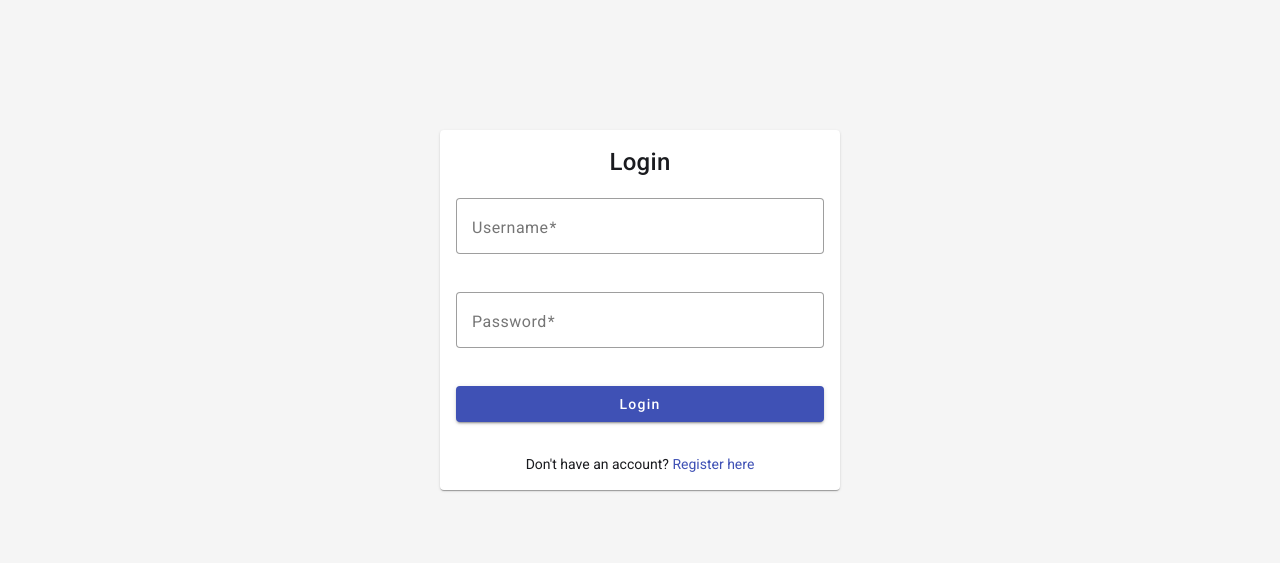
Test: Heart Health Display Card › shows median heart rate box when data exists
This screenshot has width=1280, height=563.
In the field named "username": (640, 226) [472, 214, 808, 238], type "demo"
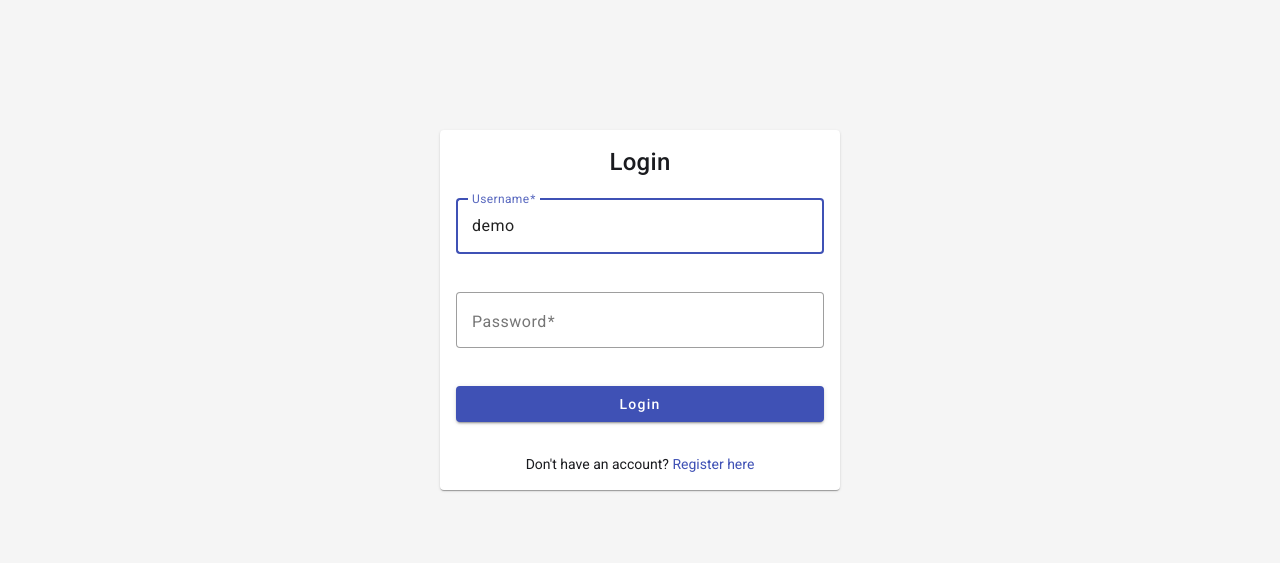
In the password field named "password": (640, 320) [472, 308, 808, 332], type "demo"
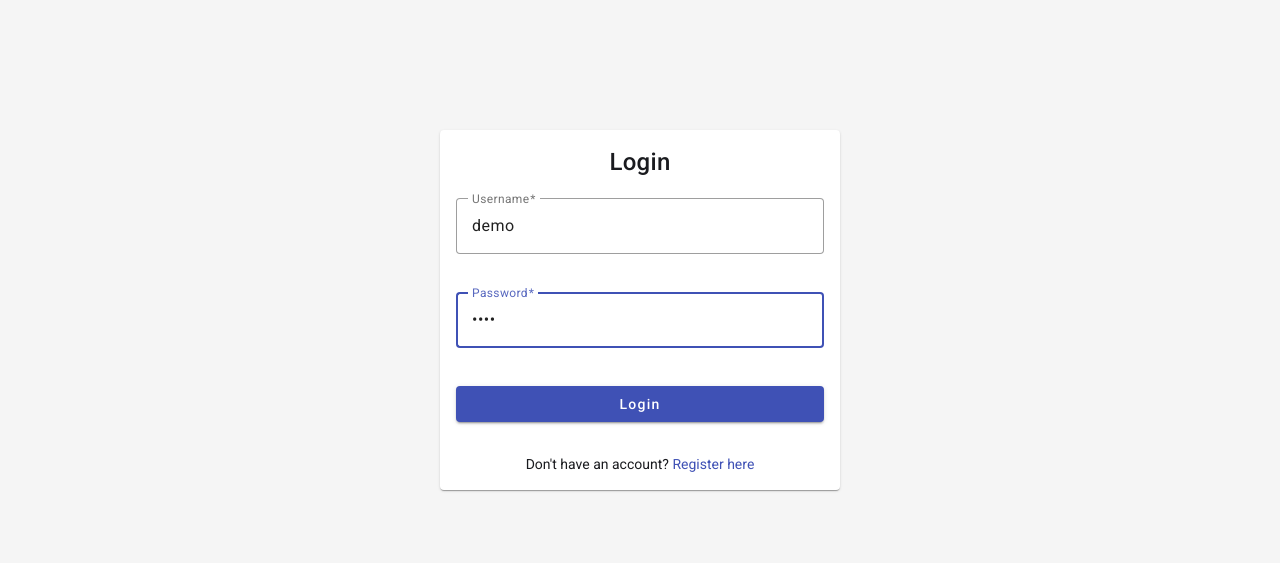
Click the submit button: (640, 404) [456, 386, 824, 422]
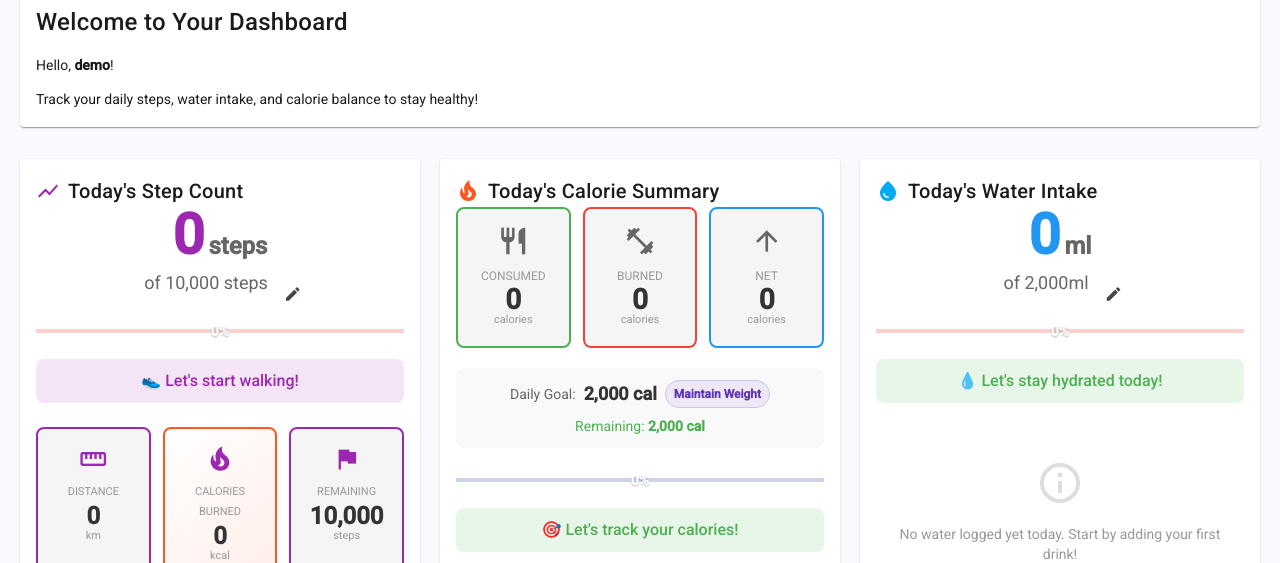
Scroll
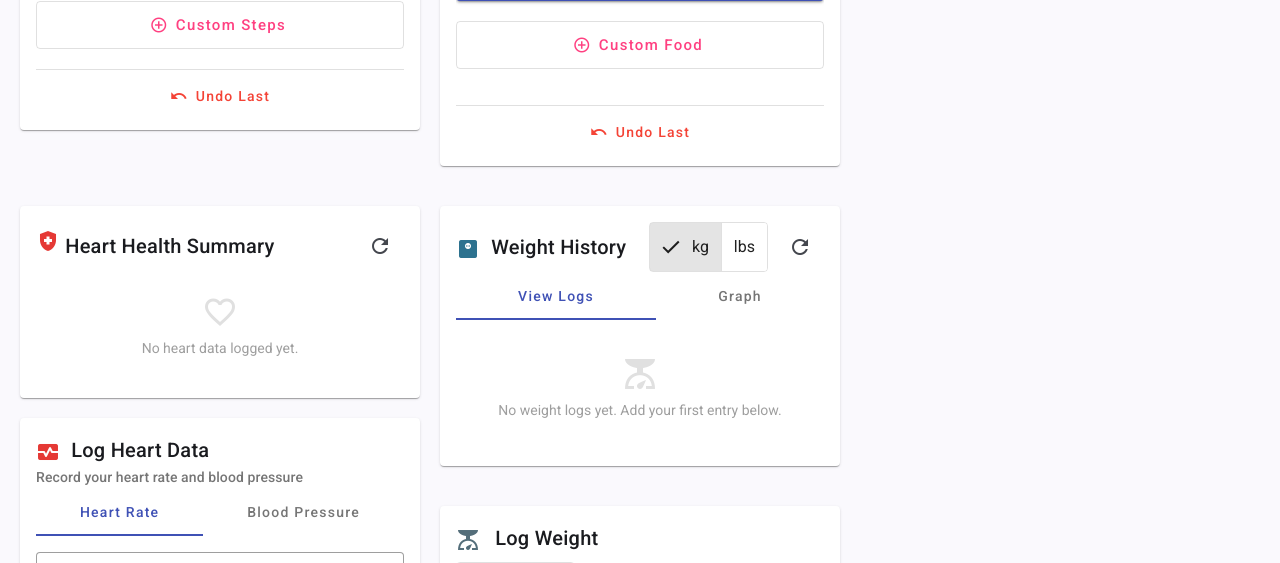
Click the button "refresh" next to "Heart Health Summary": (380, 246) [356, 222, 404, 270]
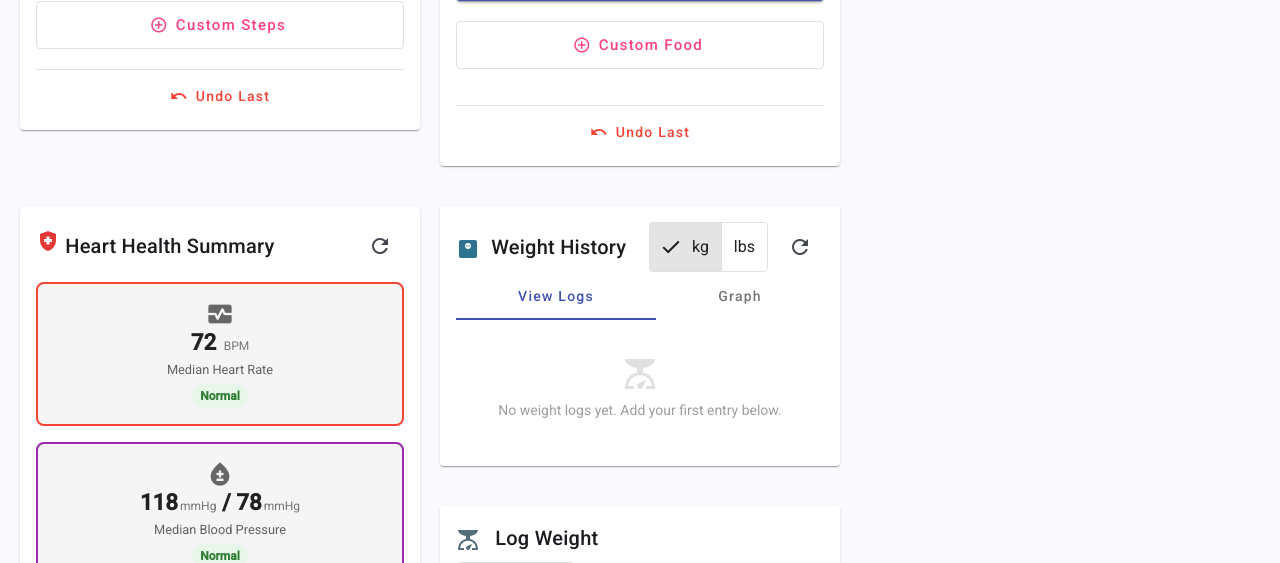
Expected: the text "Median Heart Rate" is shown, [167, 360, 273, 380]
Expected: the text "72" is shown, [191, 329, 222, 355]
Expected: the text "BPM" is shown, [224, 339, 249, 353]
